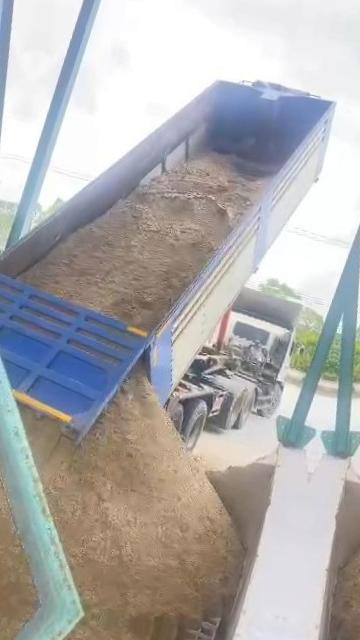sand: (22, 368, 242, 631), (22, 154, 267, 330), (209, 452, 274, 553), (0, 412, 34, 602)
